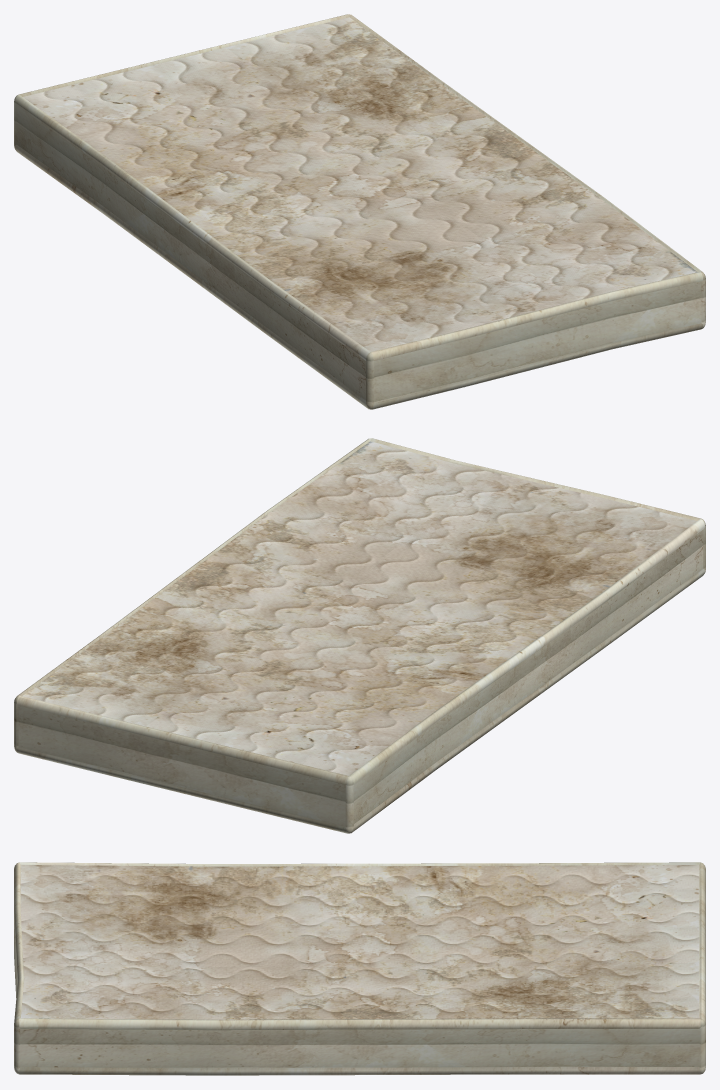
Rendered from Matras.fbx.
3 renders of one model, top to bottom at view 1: azimuth 30°, elevation 25°; view 2: azimuth 150°, elevation 25°; view 3: azimuth 270°, elevation 25°, orthographic. The views are drawn at different scales.
Visible parts, largest first — view 1: Matras; view 2: Matras; view 3: Matras.
Boxes of the visible parts, x1,y1,x2,y2 form: Matras: (14,14,705,409); Matras: (14,438,705,833); Matras: (14,862,705,1075).
Bounding box in the file's own units: 1.63 × 0.2621 × 2.94.
